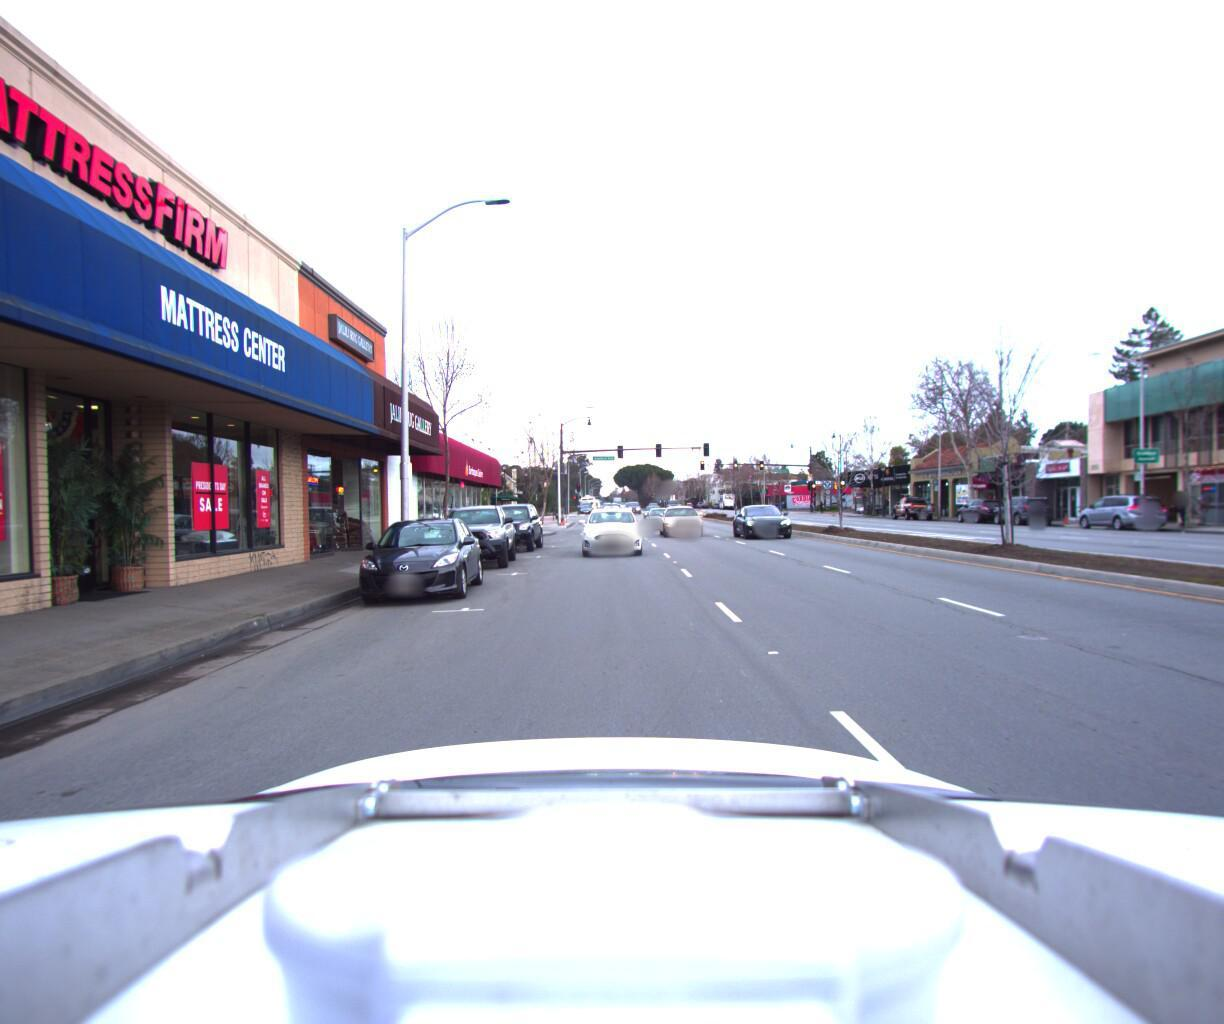car: (343, 513, 486, 610), (429, 500, 516, 573), (567, 497, 645, 557), (1075, 491, 1169, 531), (473, 500, 545, 550), (733, 499, 807, 538), (991, 493, 1056, 524), (660, 502, 709, 536), (889, 490, 938, 519), (955, 495, 1008, 520), (640, 503, 674, 527), (598, 493, 621, 516)
